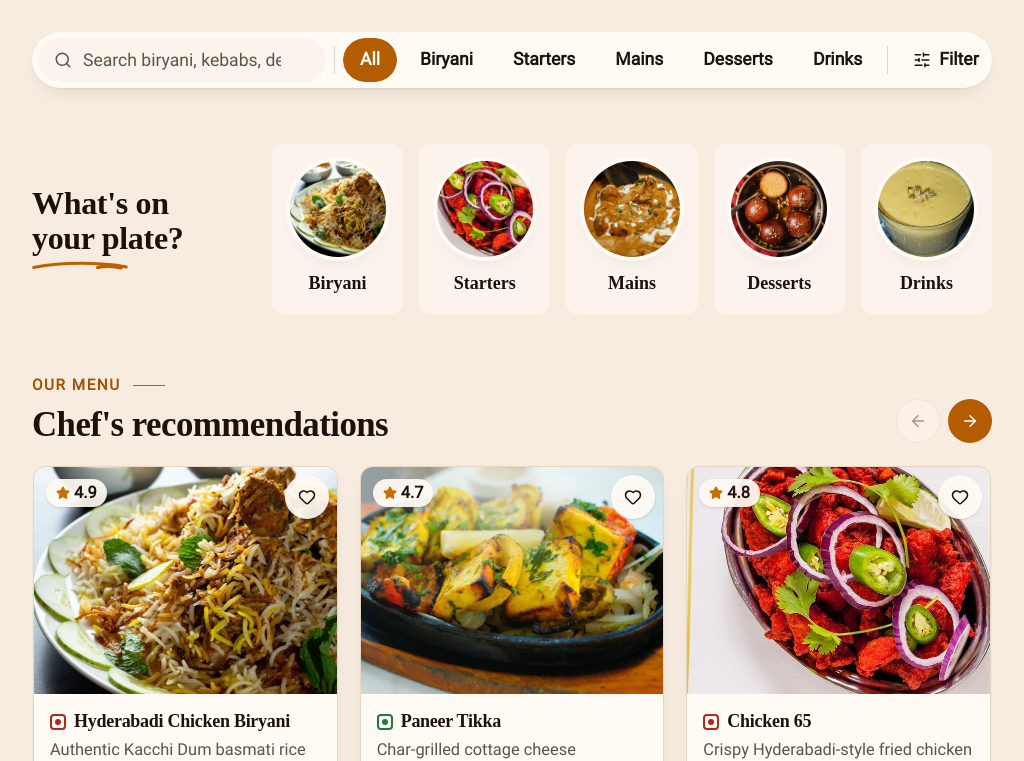
Test case: MenuSection › keeps the category pills and tiles in sync, and a second press on a tile returns to All
This screenshot has width=1024, height=761.
Click the button "Biryani" at [338, 229], box 272,144 -> 403,314
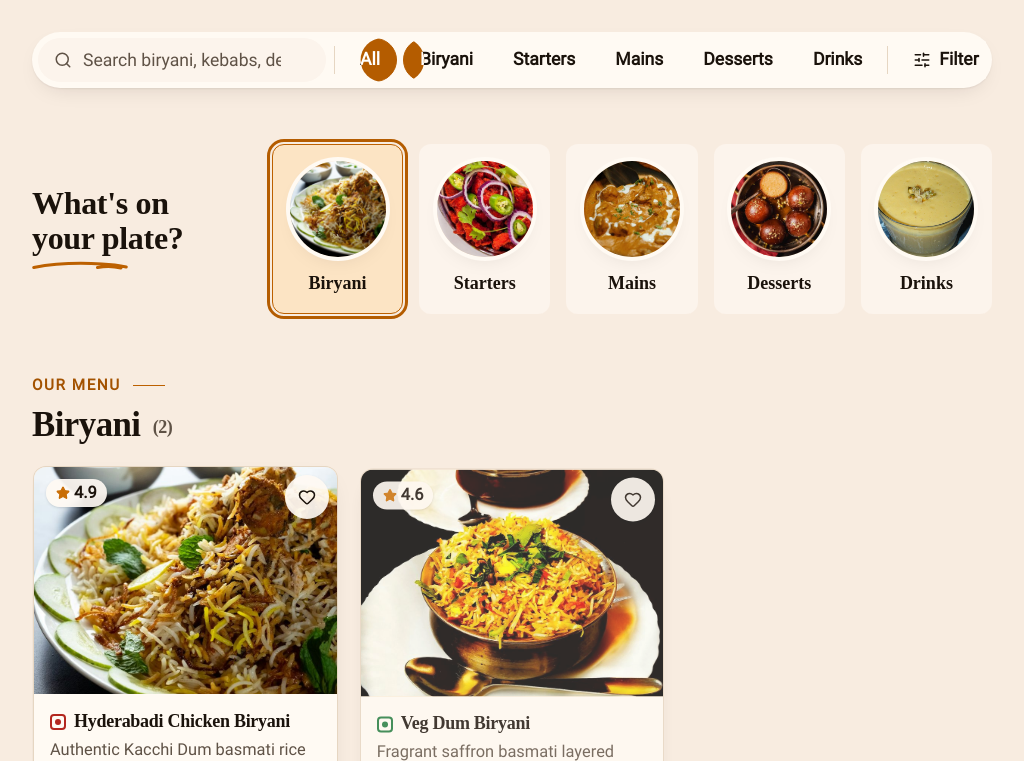
Now the radio button labelled "Biryani" is checked, box 403,38 -> 490,82
Now the heading with id "rail-heading" reads "Biryani (2)", box 32,406 -> 172,443
Click the button "Biryani" at [338, 229], box 272,144 -> 403,314
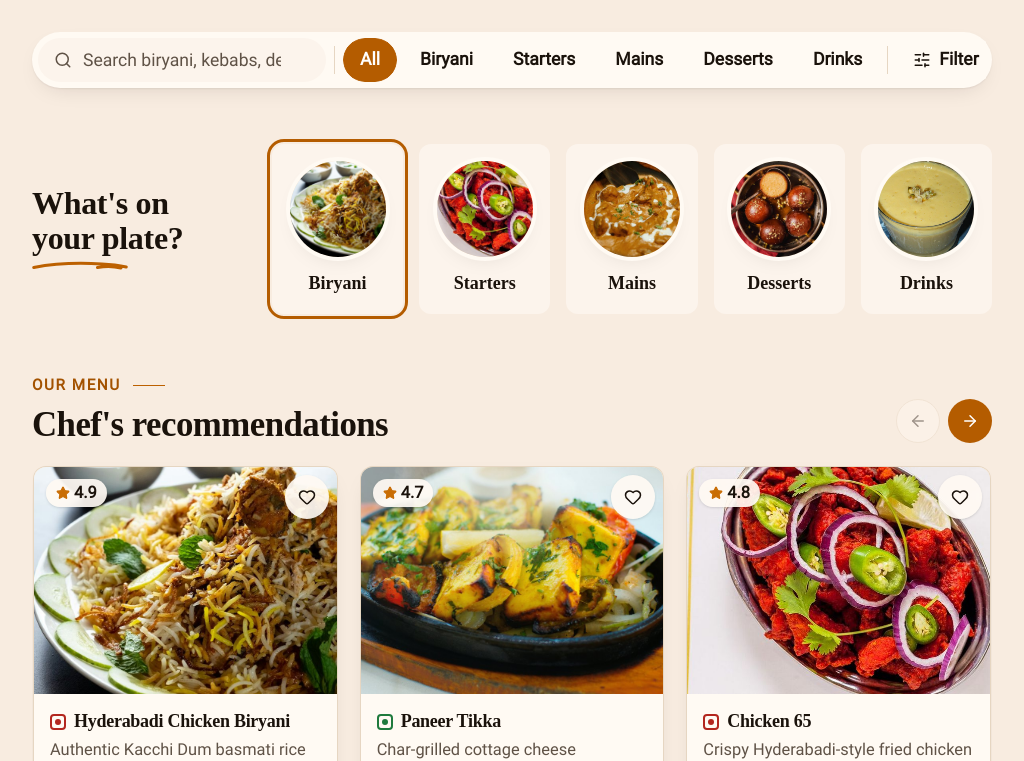
Now the radio button labelled "All" is checked, box 343,38 -> 397,82
Now the heading with id "rail-heading" reads "Chef's recommendations", box 32,405 -> 388,444
